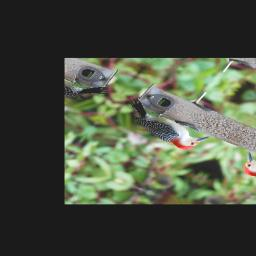Woodpecker: (109, 95, 218, 155)
